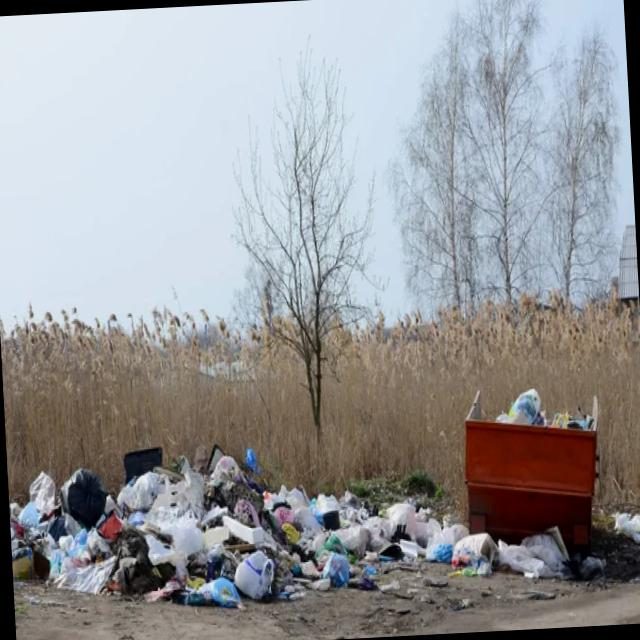garbage: (16, 388, 462, 633)
